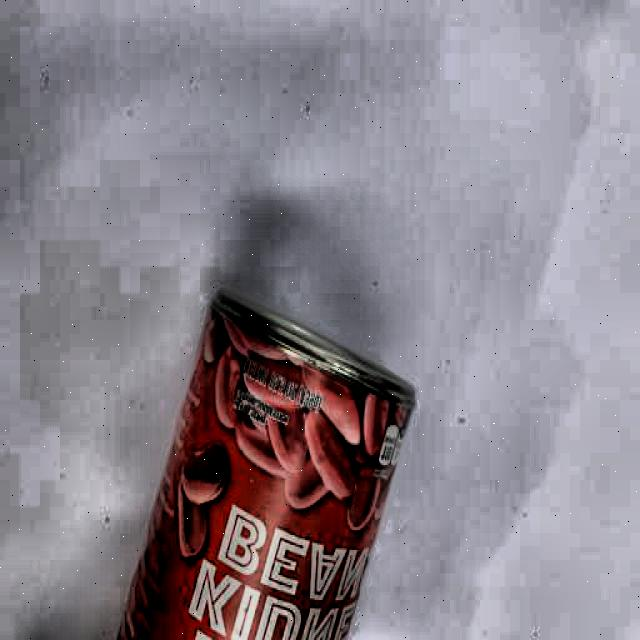metal: (114, 288, 422, 640)
